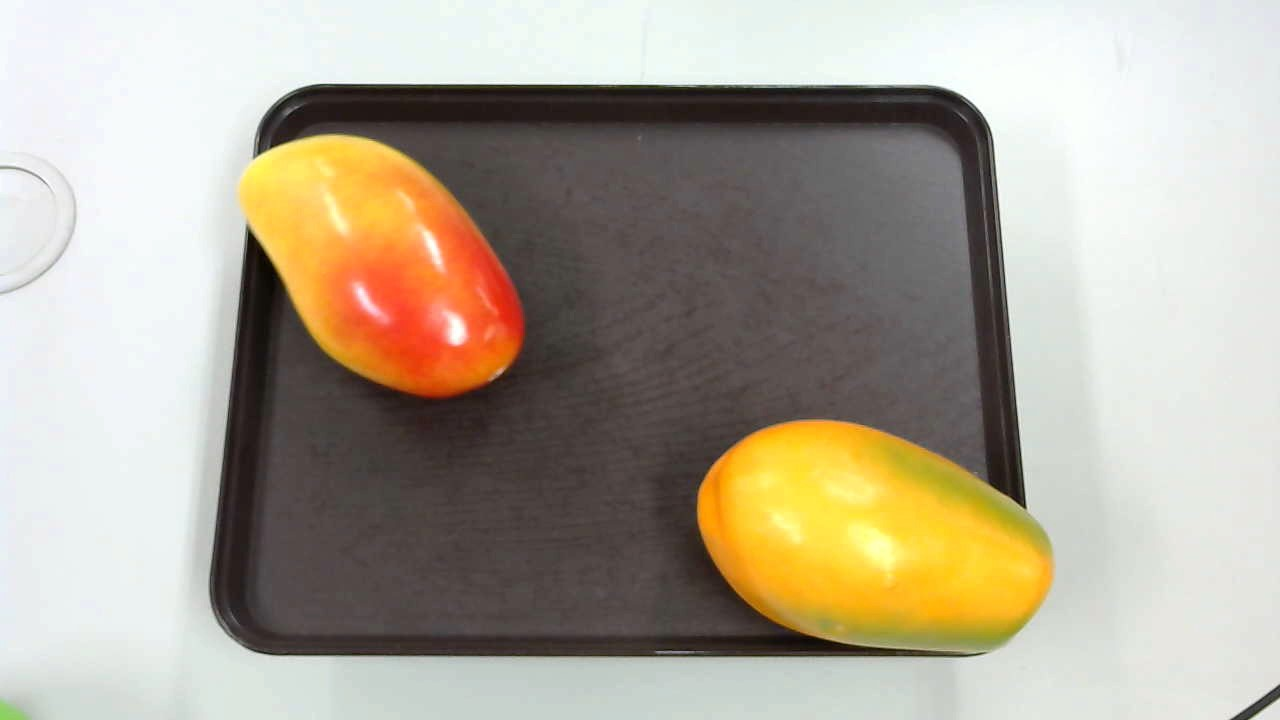papya: (693, 416, 1061, 662)
red mango: (237, 128, 526, 397)
